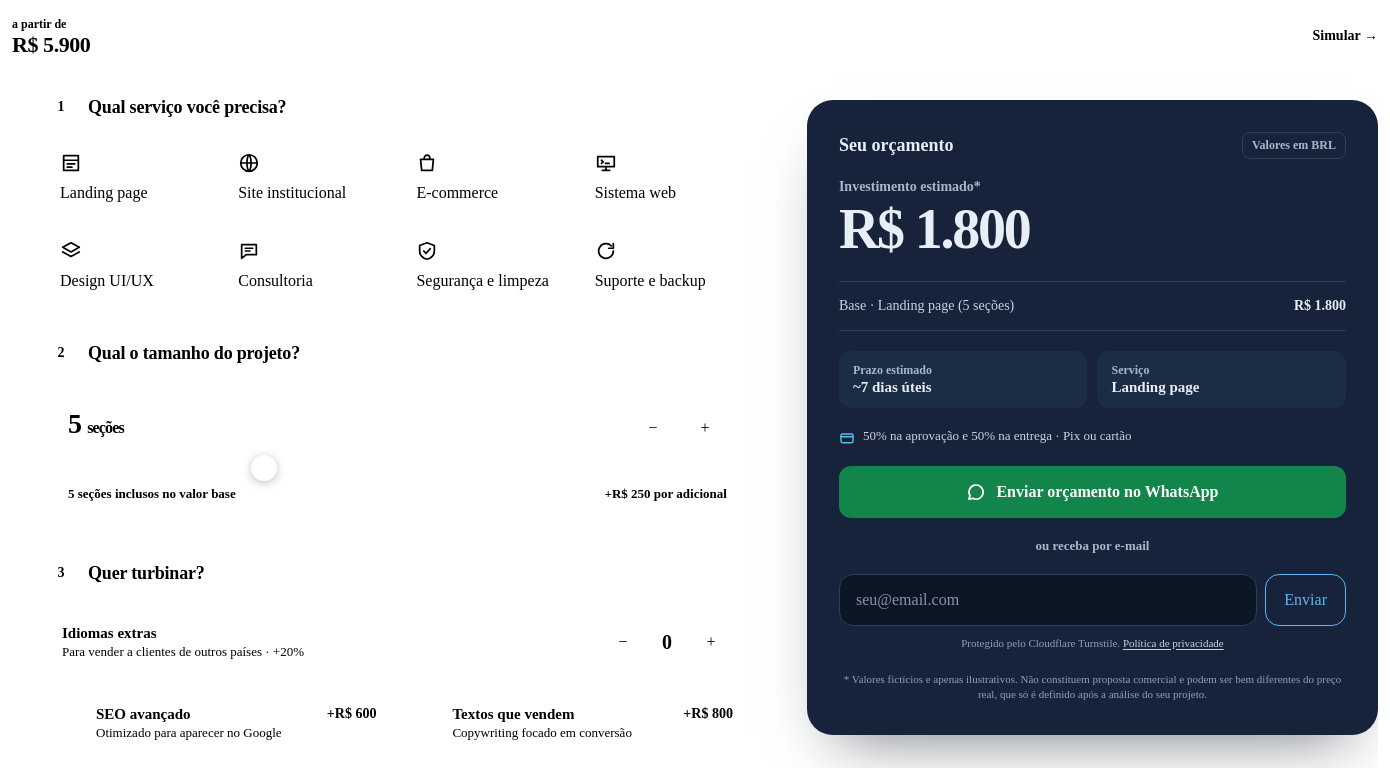
calculadora › suporte é mensal: rótulo, sufixo e prazo mudam
Click the button "Suporte e backup": (665, 265) [581,226,749,304]
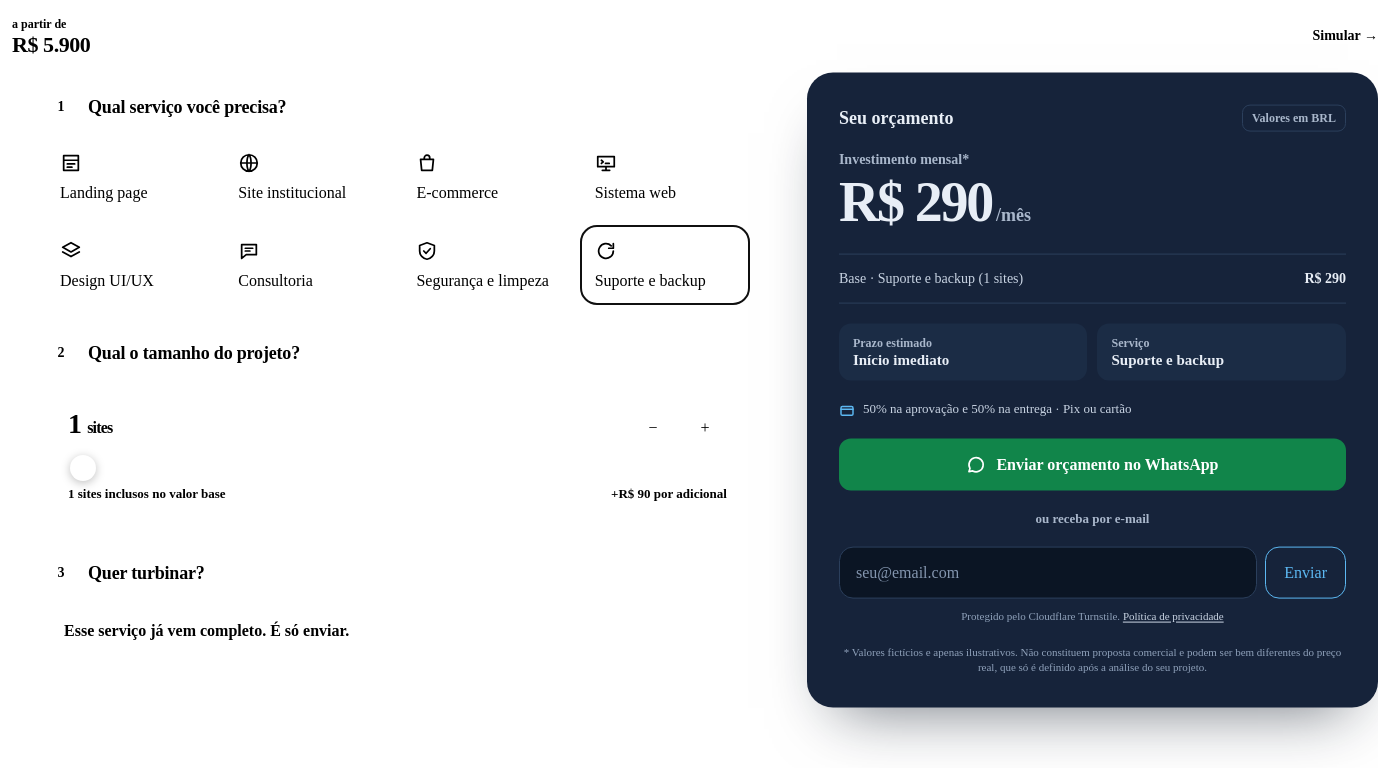
Expected: the text "Investimento mensal*" is shown, [839,152,969,167]
Expected: the text "Início imediato" is shown, [853,351,949,367]
Expected: the element showing "R$ 290/mês" is shown, [839,171,1031,233]
